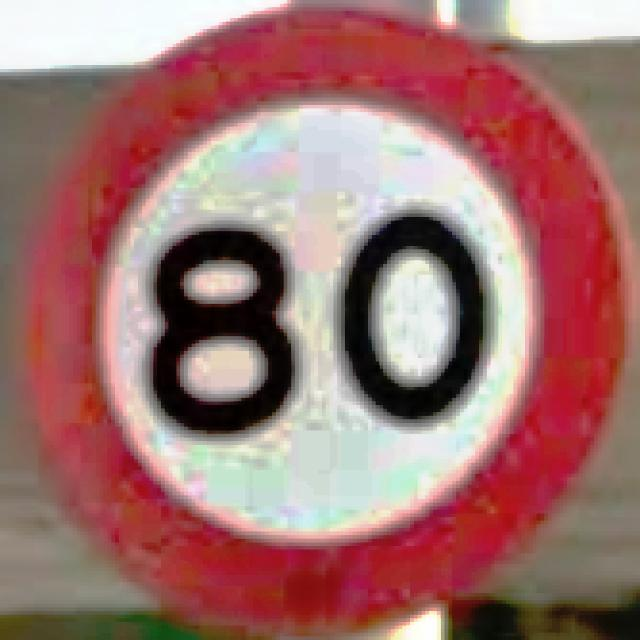max80: (12, 0, 632, 633)
